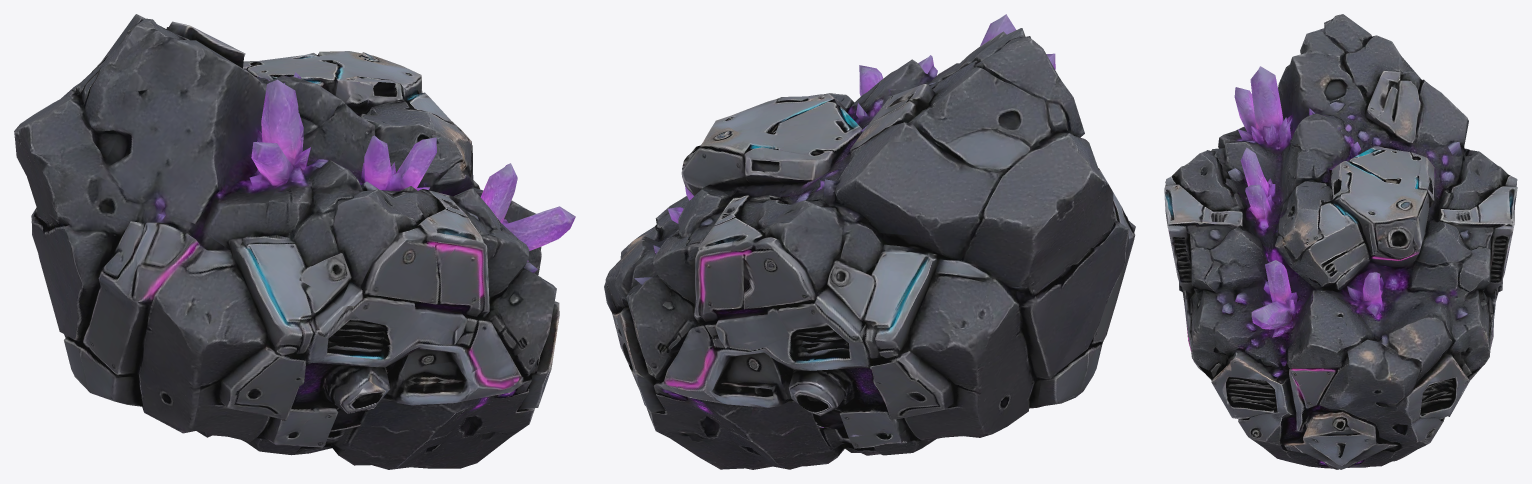
Rendered from prop-rock.glb.
3 renders of one model, left to right at view 1: azimuth 30°, elevation 25°; view 2: azimuth 150°, elevation 25°; view 3: azimuth 270°, elevation 25°, orthographic. The views are drawn at different scales.
Parts seen in each view (by area): view 1: body; view 2: body; view 3: body.
Part boxes in pixels (left/top/right/bottom): body: left=14, top=14, right=575, bottom=469; body: left=604, top=14, right=1135, bottom=469; body: left=1164, top=14, right=1517, bottom=469.
Bounding box in the file's own units: 0.9989 × 0.9384 × 0.8575.
1 material, 1 textured.
